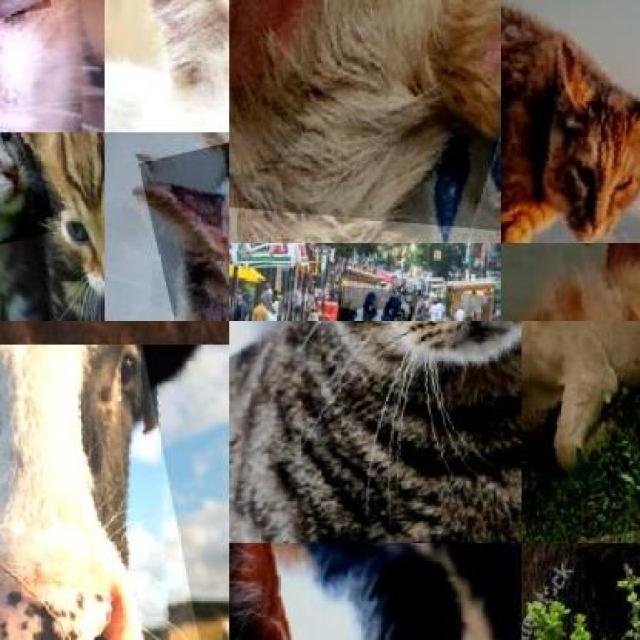cat: (229, 320, 522, 543), (500, 0, 640, 243), (229, 543, 522, 640), (105, 132, 229, 320), (8, 132, 104, 320), (104, 0, 229, 132), (0, 0, 104, 132), (0, 132, 57, 260)
cow: (0, 344, 229, 640), (521, 320, 640, 543)
dog: (229, 0, 500, 232)
injured: (138, 132, 230, 320)
